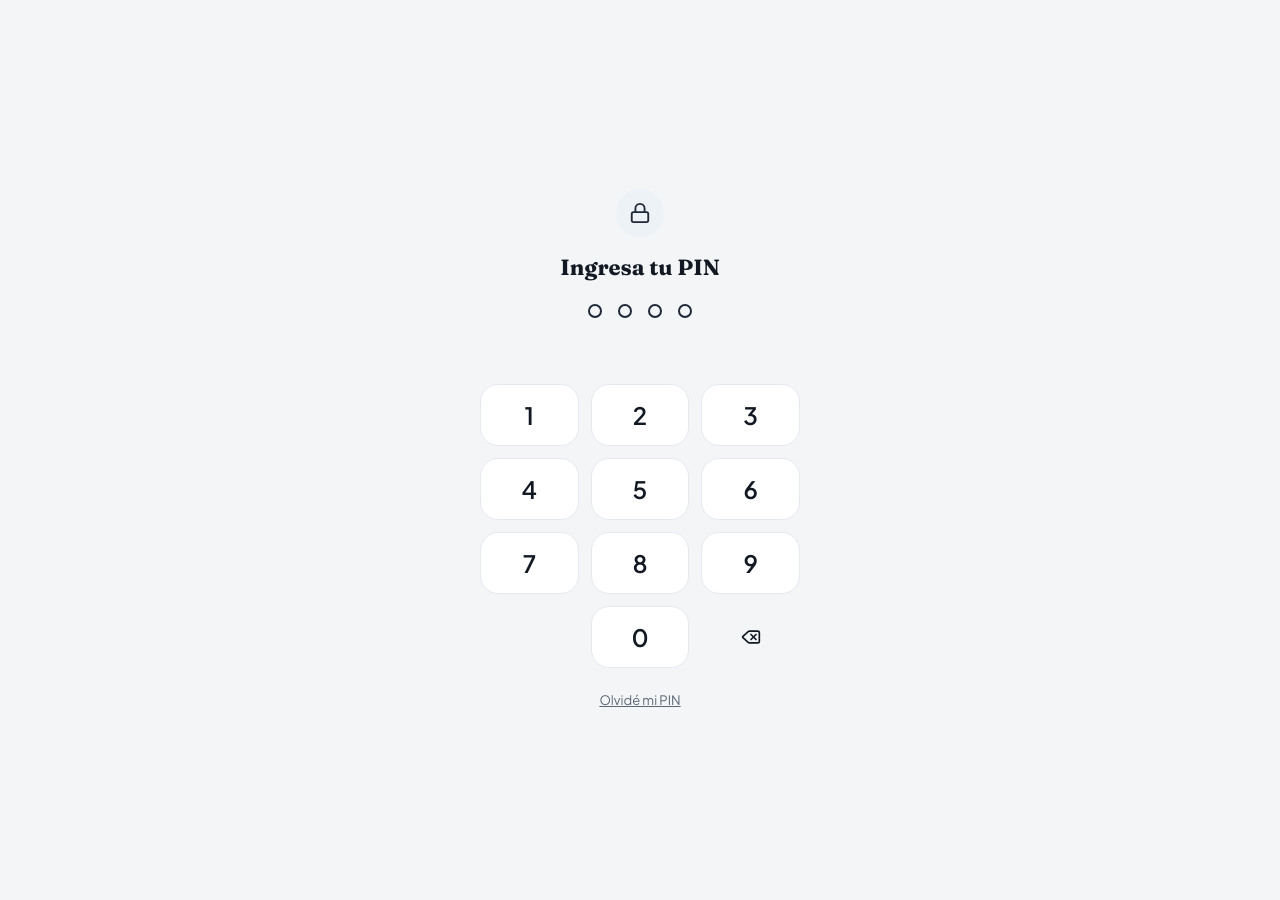
Test: PinGate › PIN incorrecto avisa cuántos intentos quedan y limpia los puntos
Click the button "9". click: point(751, 563)
box: [701,532,800,594]
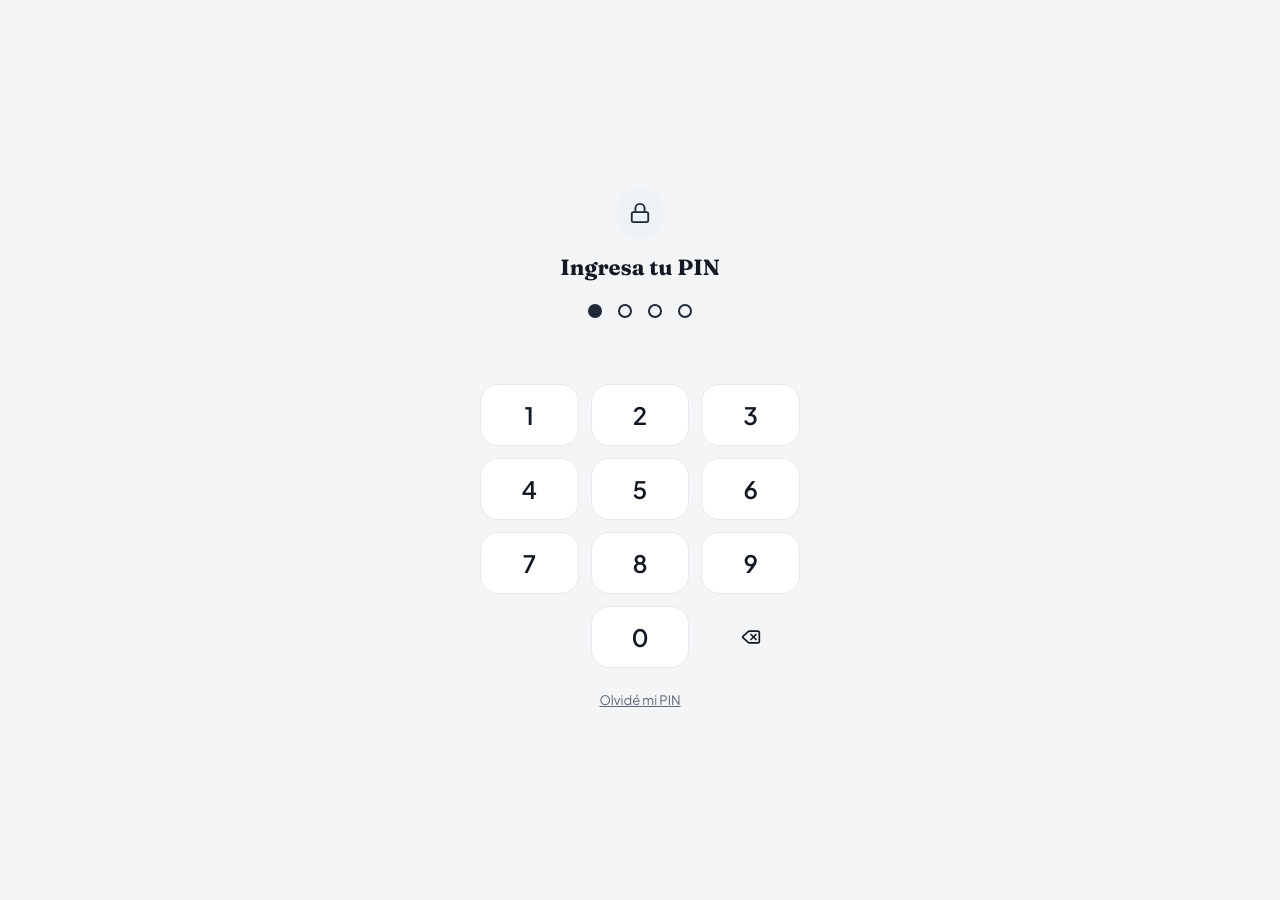
Click the button "9". click: point(751, 563)
box: [701,532,800,594]
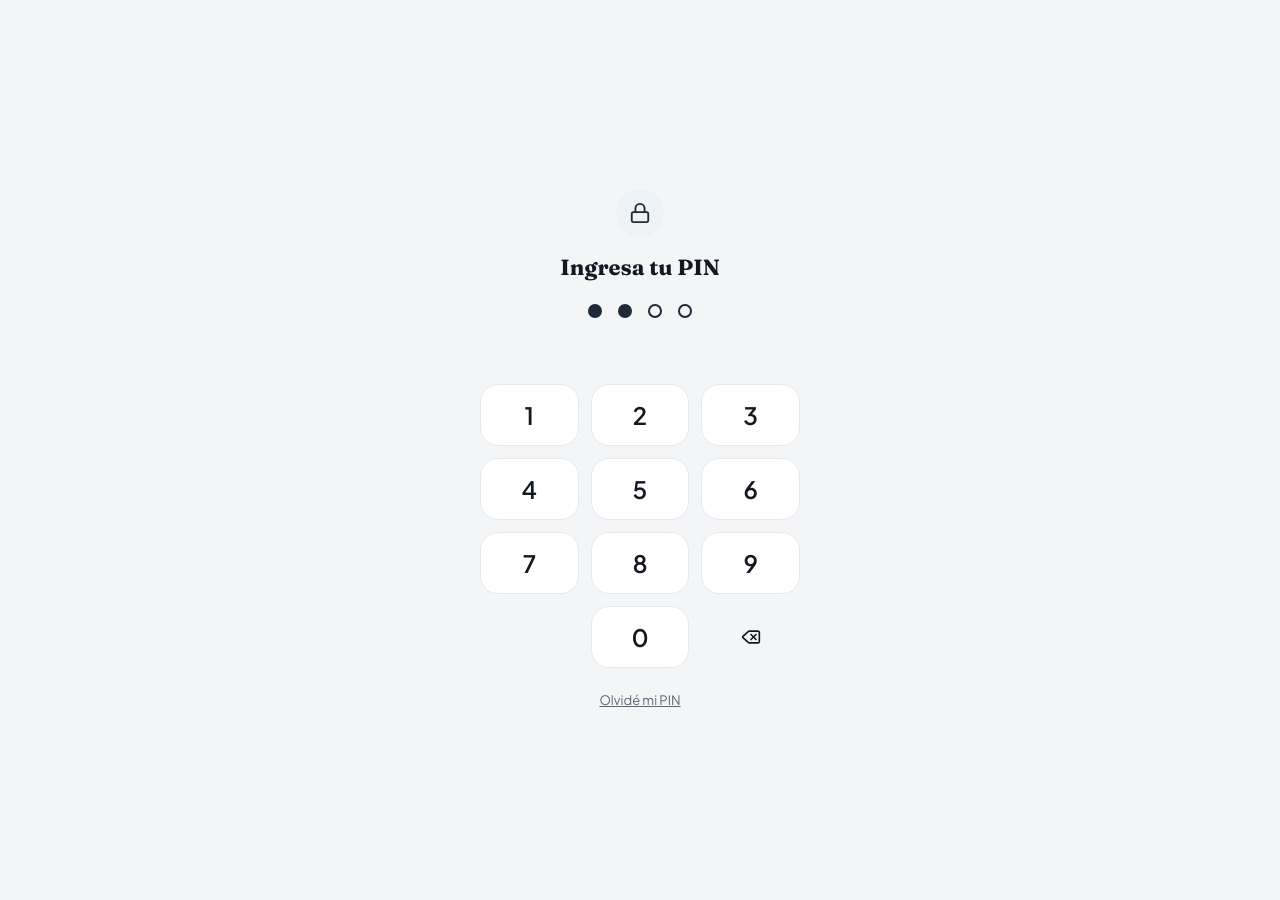
Click the button "9". click: point(751, 563)
box: [701,532,800,594]
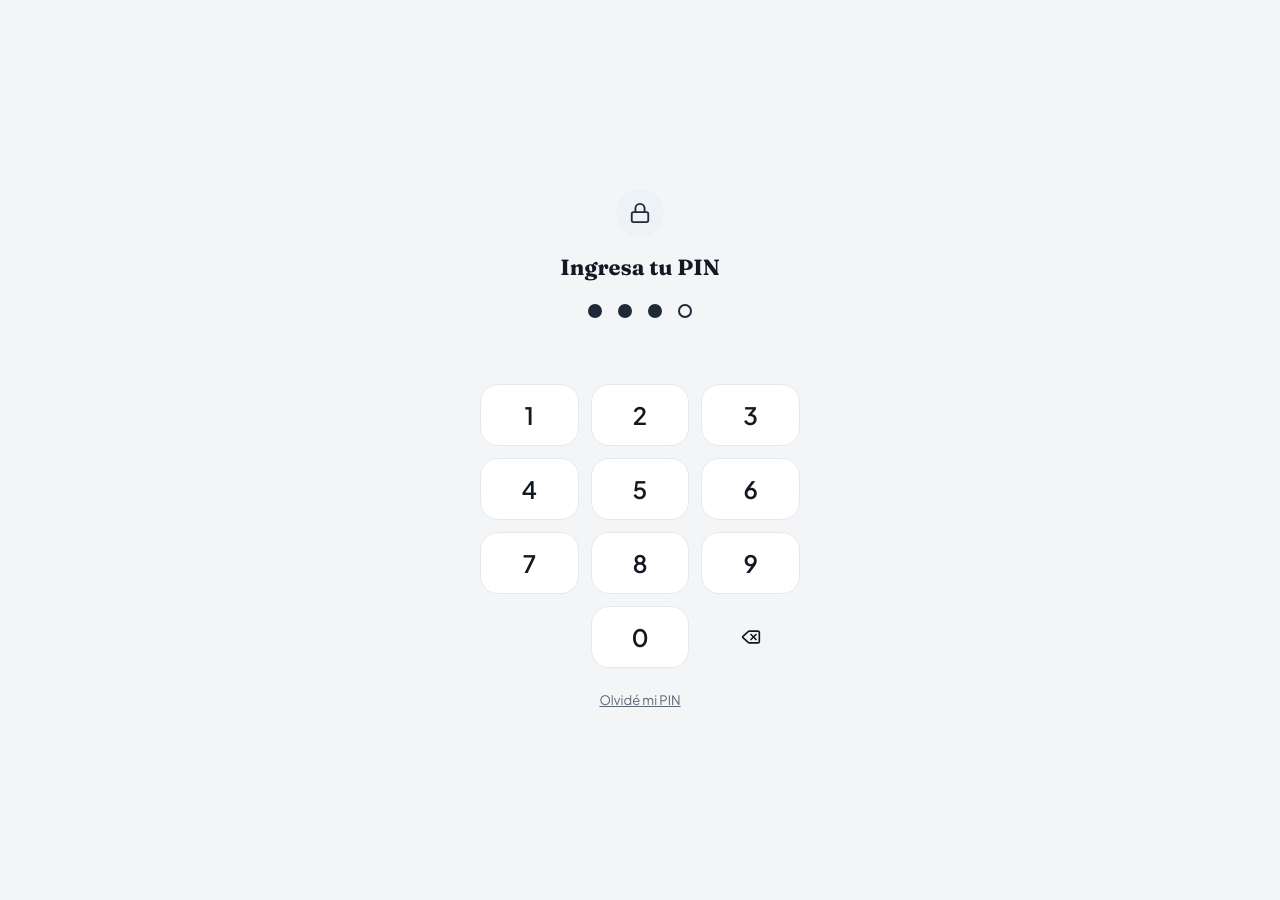
Click the button "9". click: point(751, 563)
box: [701,532,800,594]
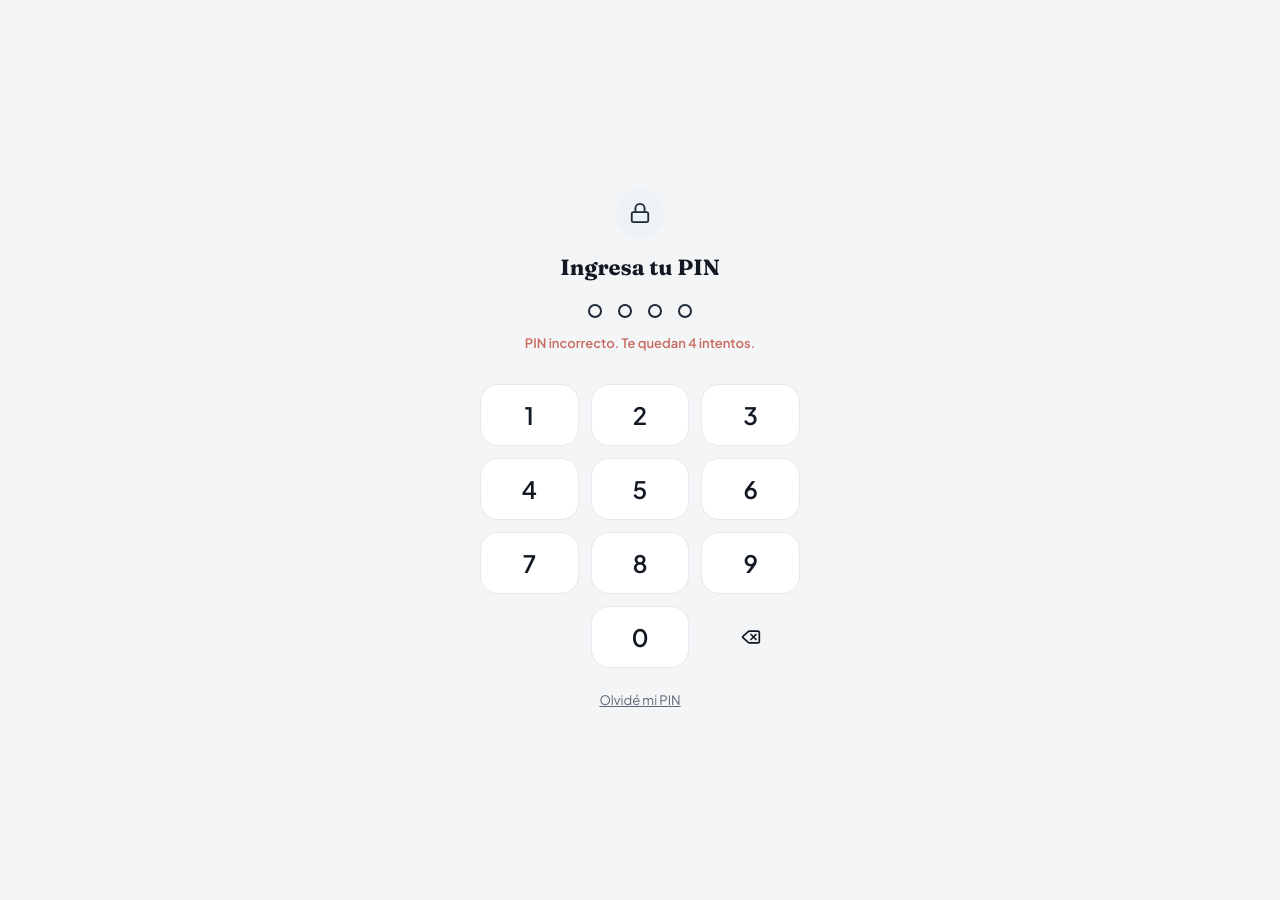
Expected: the heading "Ingresa tu PIN" is shown, [560,251,720,284]
Expected: the message shows "Te quedan 4 intentos", [525,335,755,351]
